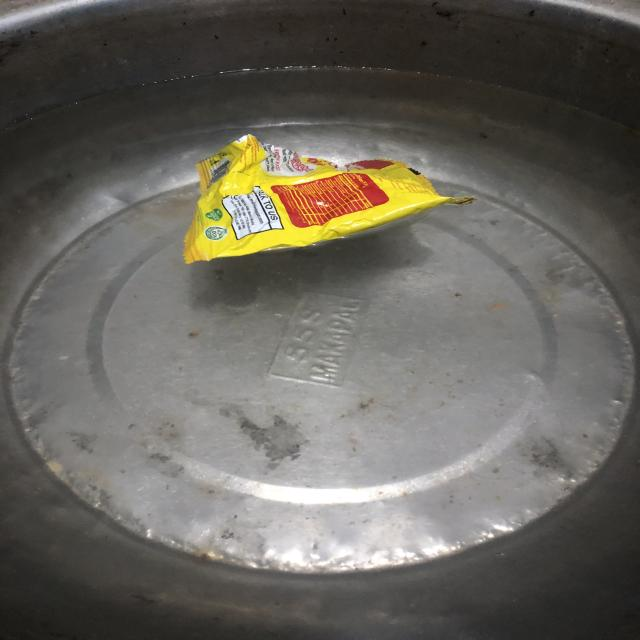Plastic Wrapper: (170, 132, 478, 275)
